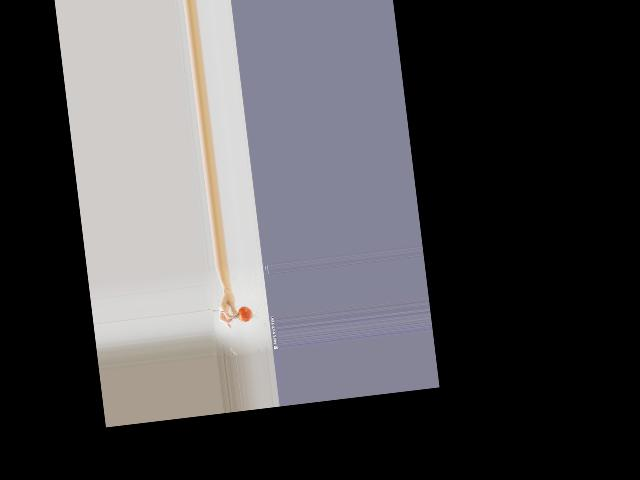tomato: (237, 304, 253, 321)
